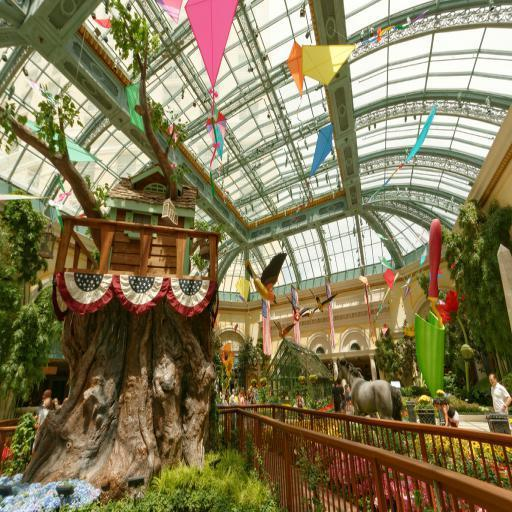horse: (336, 356, 406, 433)
